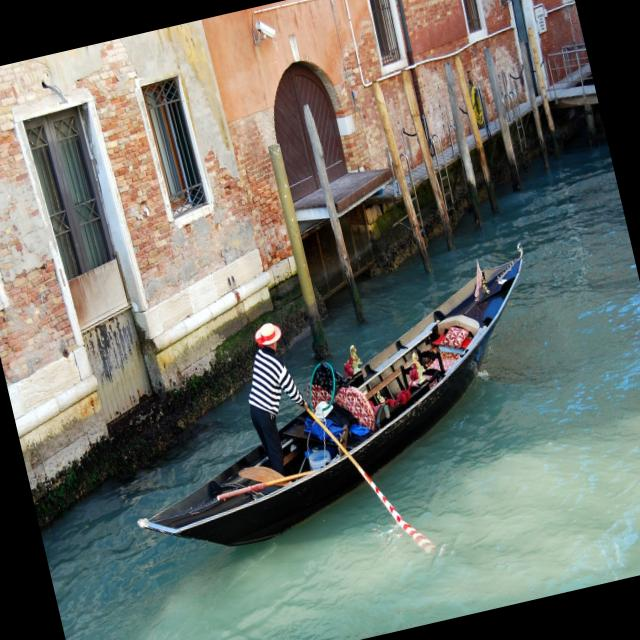boat: (76, 231, 598, 584)
